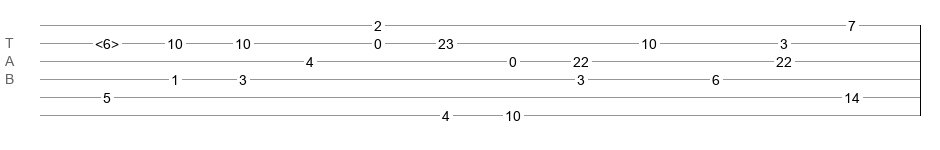0: (374, 36, 382, 46), (509, 54, 517, 64)
1: (171, 72, 179, 82)
10: (167, 36, 183, 46), (235, 36, 251, 46), (505, 108, 521, 118), (641, 36, 657, 46)
14: (844, 90, 860, 100)
2: (374, 18, 382, 28)
22: (573, 54, 589, 64), (776, 54, 792, 64)
23: (438, 36, 454, 46)
3: (239, 72, 247, 82), (577, 72, 585, 82), (780, 36, 788, 46)
4: (306, 54, 314, 64), (442, 108, 450, 118)
5: (103, 90, 111, 100)
6: (712, 72, 720, 82)
7: (848, 18, 856, 28)
harmonic: (95, 36, 119, 46)
